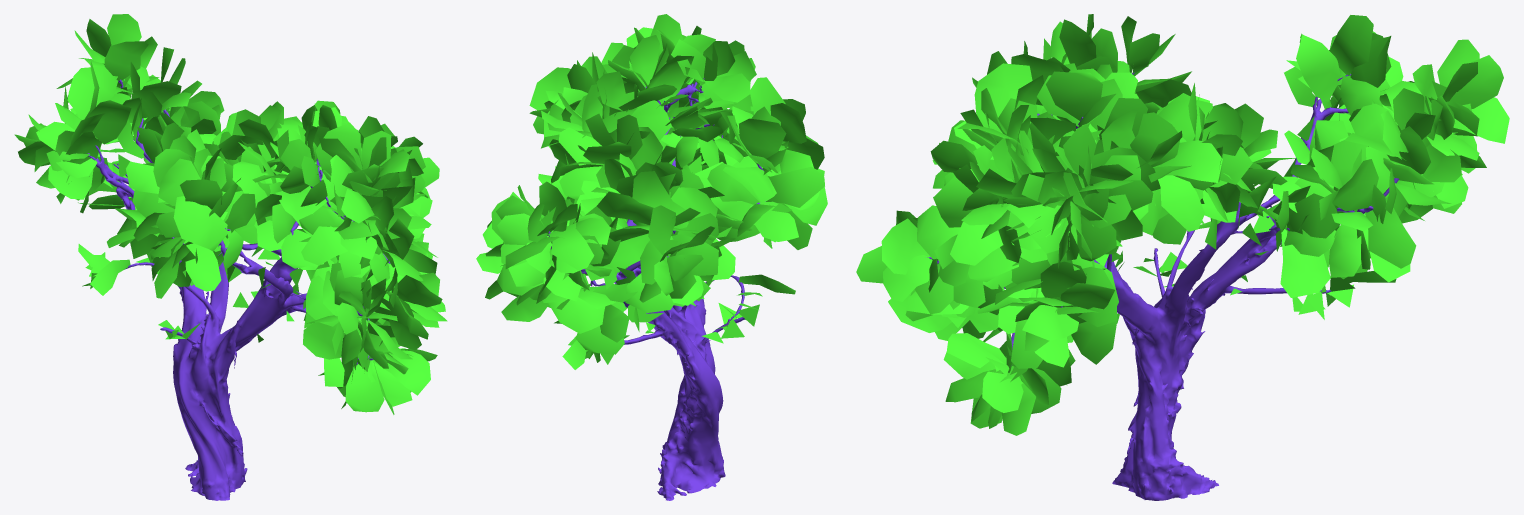
File: MSH_Vegetation_Bristlecone_01.FBX
3 views of the same model, side by side, from view 1: azimuth 30°, elevation 25°; view 2: azimuth 150°, elevation 25°; view 3: azimuth 270°, elevation 25° (orthographic). The views are drawn at different scales.
Parts seen in each view (by area): view 1: BRANCH_LOD0, TRUNK_LOD0; view 2: BRANCH_LOD0, TRUNK_LOD0; view 3: BRANCH_LOD0, TRUNK_LOD0.
Boxes of the visible parts, <box> form: BRANCH_LOD0: <box>14,14,447,414</box>; TRUNK_LOD0: <box>87,79,390,500</box>; BRANCH_LOD0: <box>476,14,827,369</box>; TRUNK_LOD0: <box>548,78,765,500</box>; BRANCH_LOD0: <box>856,14,1509,435</box>; TRUNK_LOD0: <box>927,72,1399,500</box>.
Size of what is drawn, in the model's own units: 366 by 455 by 581.
